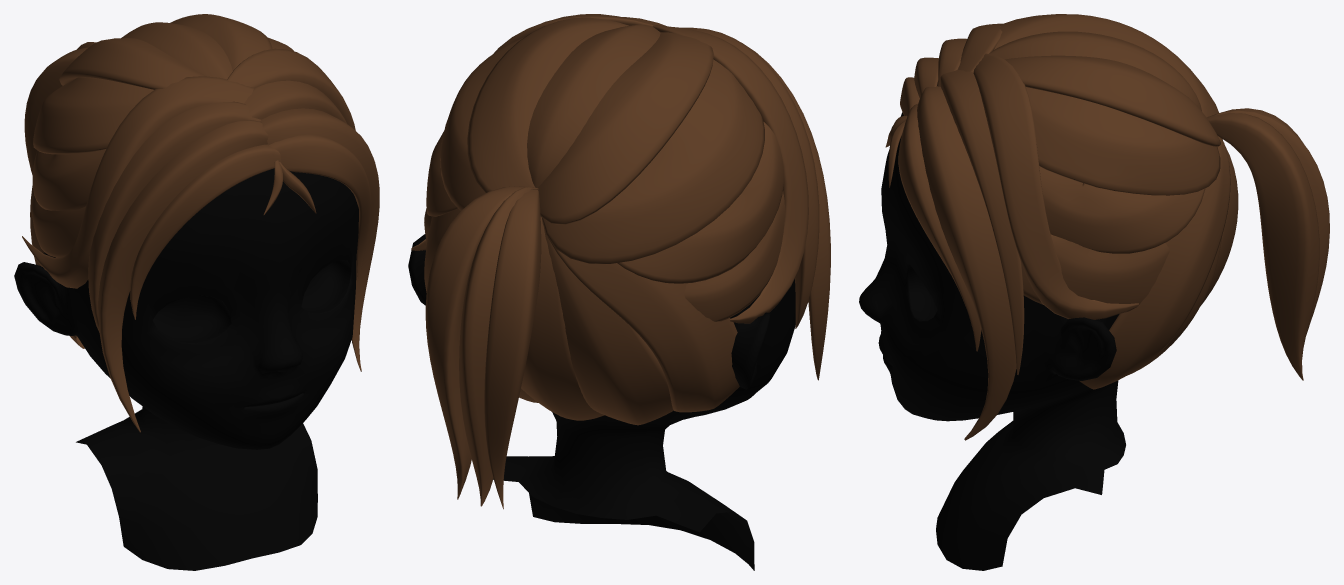
Rendered from female_hair_ponytail.glb.
The picture shows the model from 3 angles, left to right: view 1: azimuth 30°, elevation 25°; view 2: azimuth 150°, elevation 25°; view 3: azimuth 270°, elevation 25°; orthographic projection. The views are drawn at different scales.
Visible parts, largest first — view 1: Head, Hair; view 2: Hair, Head; view 3: Hair, Head.
Boxes of the visible parts, left/top/right/bottom form: Head: left=14, top=168, right=358, bottom=570; Hair: left=22, top=14, right=379, bottom=432; Hair: left=411, top=14, right=830, bottom=509; Head: left=408, top=234, right=795, bottom=570; Hair: left=885, top=14, right=1329, bottom=440; Head: left=859, top=85, right=1125, bottom=570.
Size of the model in its own units: 731 by 1089 by 935.
